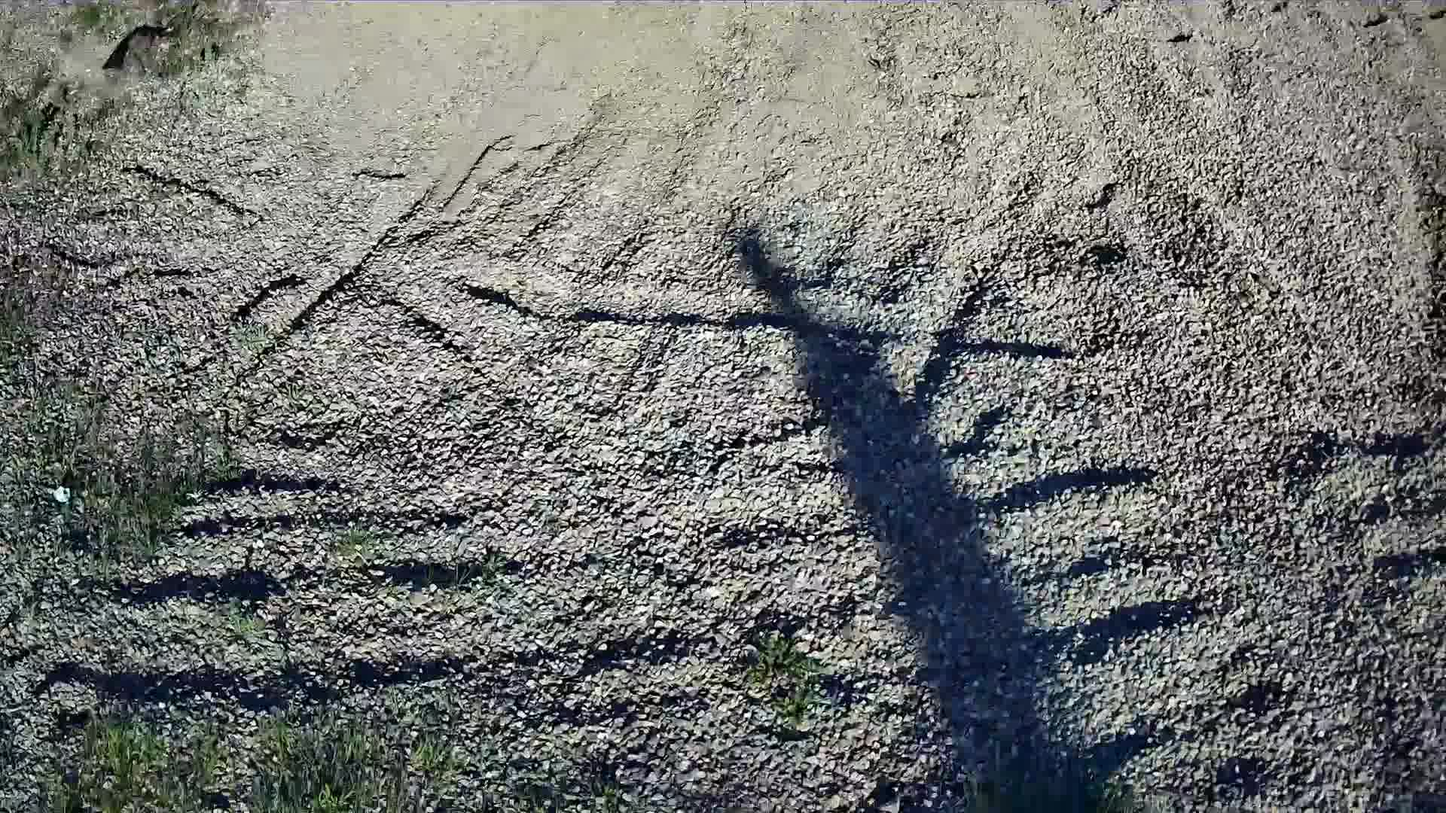Target: (52, 484, 72, 503)
